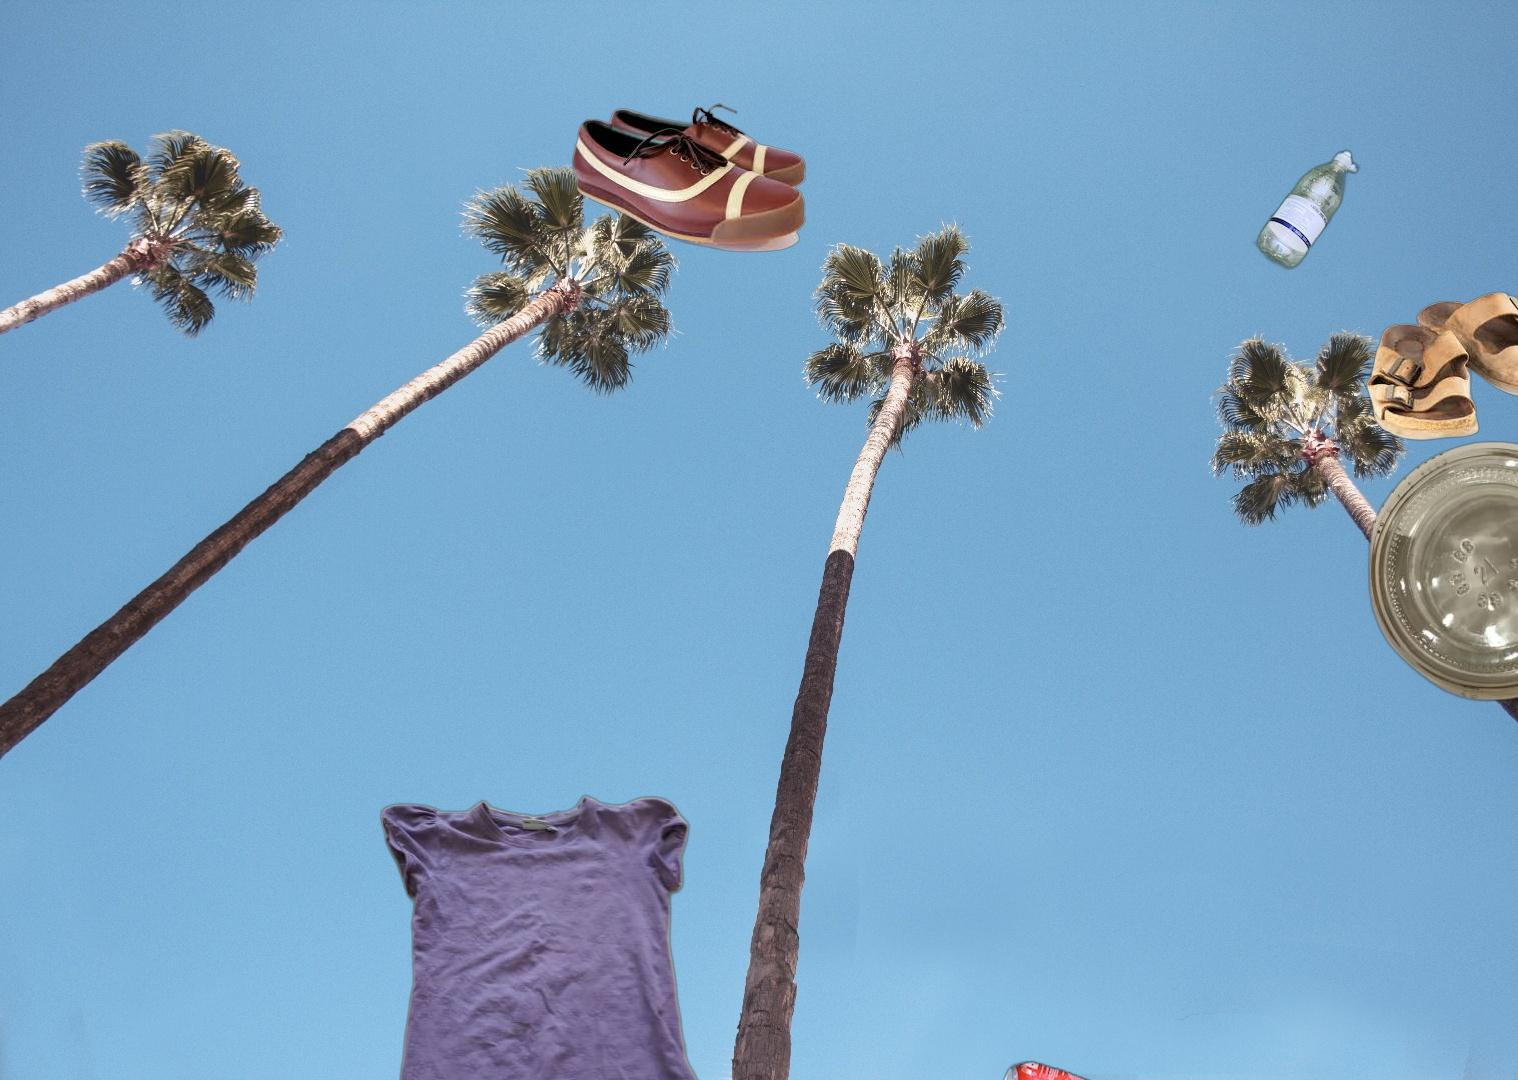clothes: (377, 791, 715, 1080)
glass: (1364, 438, 1518, 705)
metal-cans: (993, 1055, 1136, 1080)
plastic-bottles: (1250, 145, 1364, 274)
shoes: (569, 101, 807, 255), (1364, 289, 1518, 443)
